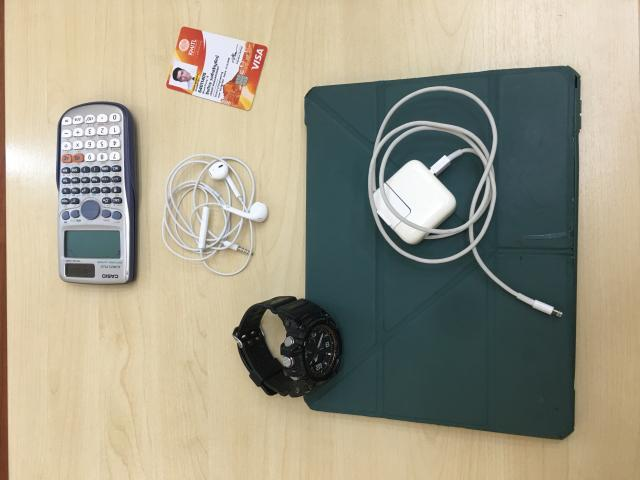Watch: (233, 297, 344, 398)
wire: (370, 89, 553, 313), (163, 155, 269, 270)
